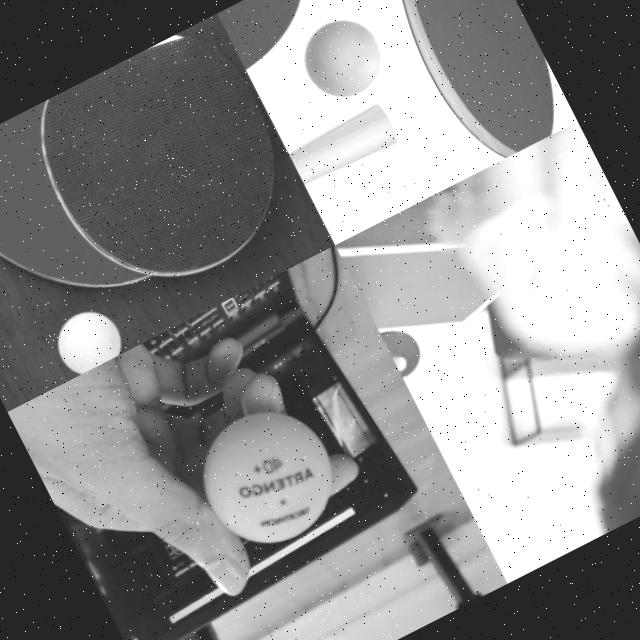ping-pong-ball: (182, 391, 354, 564), (293, 10, 394, 110), (47, 306, 126, 380), (394, 354, 408, 372)
